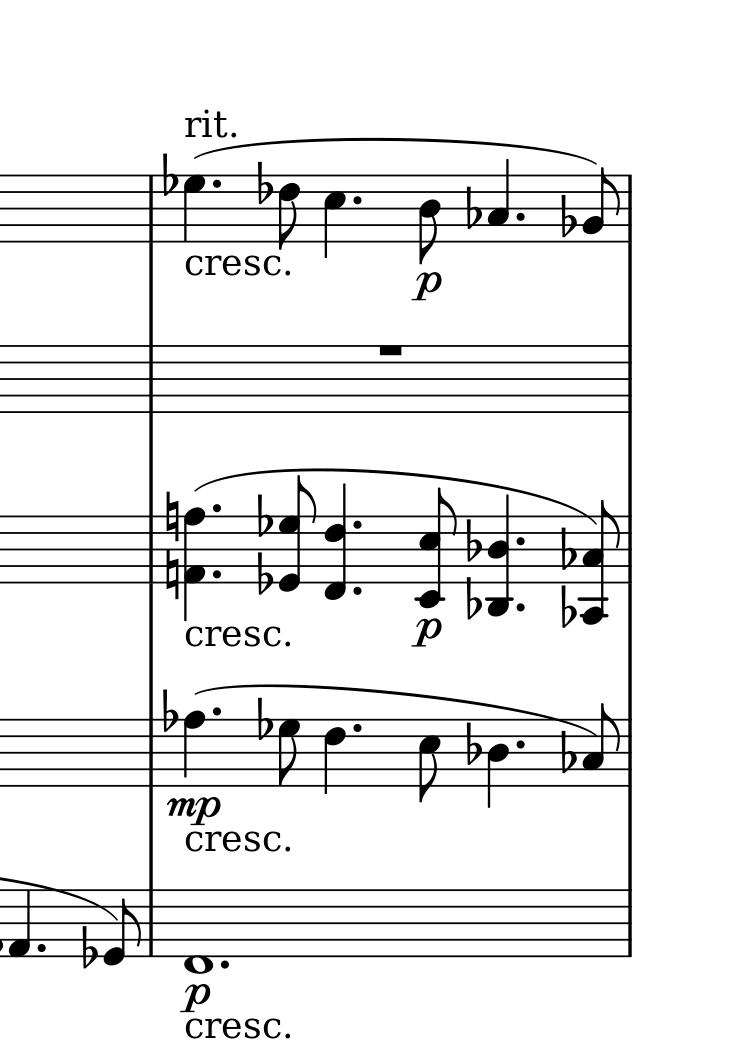1_-1: (182, 886, 217, 975)
4_-1_6: (324, 482, 350, 599)
4_-3_4: (484, 493, 516, 617)
4_1: (8, 889, 35, 960)
4_1_8: (182, 506, 206, 621)
4_3: (486, 158, 512, 245)
4_4: (486, 718, 511, 809)
4_5: (324, 173, 348, 261)
4_6: (323, 719, 349, 796)
4_7: (183, 175, 208, 244)
4_8: (181, 710, 205, 788)
8_-2_5: (415, 485, 458, 609)
8_-4_3: (579, 500, 623, 625)
8_0: (104, 889, 144, 967)
8_0_7: (278, 475, 318, 594)
8_2: (581, 166, 622, 243)
8_3: (582, 703, 621, 789)
8_4: (416, 173, 441, 265)
8_5: (418, 718, 441, 804)
8_6: (276, 174, 299, 252)
8_7: (278, 715, 300, 790)
Cresc: (185, 624, 294, 652), (185, 253, 291, 280), (185, 829, 291, 856), (186, 1017, 293, 1042)
Flat: (464, 515, 487, 566), (158, 687, 181, 734), (558, 583, 580, 629), (255, 551, 276, 598), (253, 693, 274, 740), (256, 493, 276, 540), (254, 161, 274, 207), (557, 523, 576, 570), (463, 722, 481, 768), (560, 729, 576, 779), (466, 577, 483, 622), (466, 186, 482, 232), (80, 927, 97, 969), (561, 195, 577, 239), (161, 153, 178, 194)
Natural: (165, 550, 181, 601), (165, 490, 181, 541)
Rests1: (375, 336, 405, 364)
Single_barline: (142, 515, 160, 583), (619, 890, 637, 957), (142, 176, 160, 242), (142, 720, 160, 786), (142, 889, 159, 958), (142, 345, 159, 413), (621, 345, 637, 413), (621, 516, 636, 582), (622, 175, 636, 241), (623, 720, 636, 788)
Slur: (195, 469, 600, 527), (196, 684, 597, 738), (192, 138, 599, 164)
dot: (348, 721, 364, 736), (349, 193, 363, 208), (210, 567, 225, 581), (350, 516, 364, 531), (208, 178, 224, 191), (512, 737, 526, 751), (218, 956, 231, 971), (515, 533, 527, 548), (210, 502, 225, 513), (513, 210, 526, 222), (516, 601, 528, 614), (352, 583, 363, 597), (212, 703, 222, 718), (34, 943, 47, 953)
mp: (164, 796, 223, 827)
p: (412, 270, 446, 305), (412, 615, 444, 649), (177, 982, 210, 1011)
